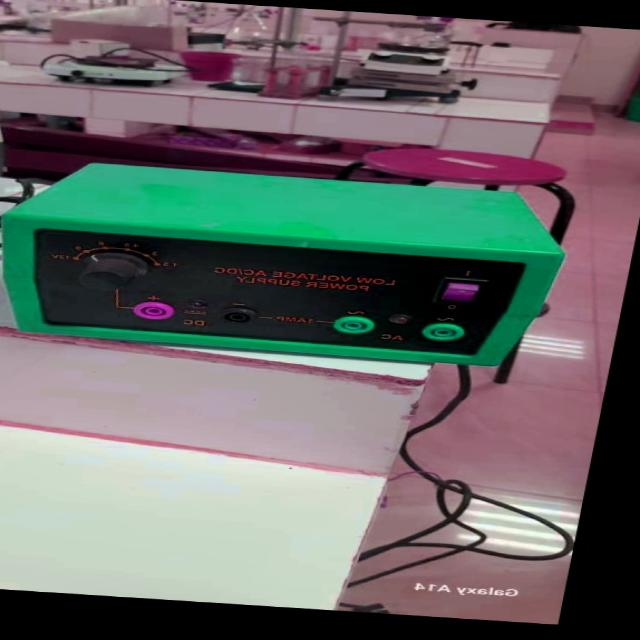Power Supply: (0, 154, 593, 380)
